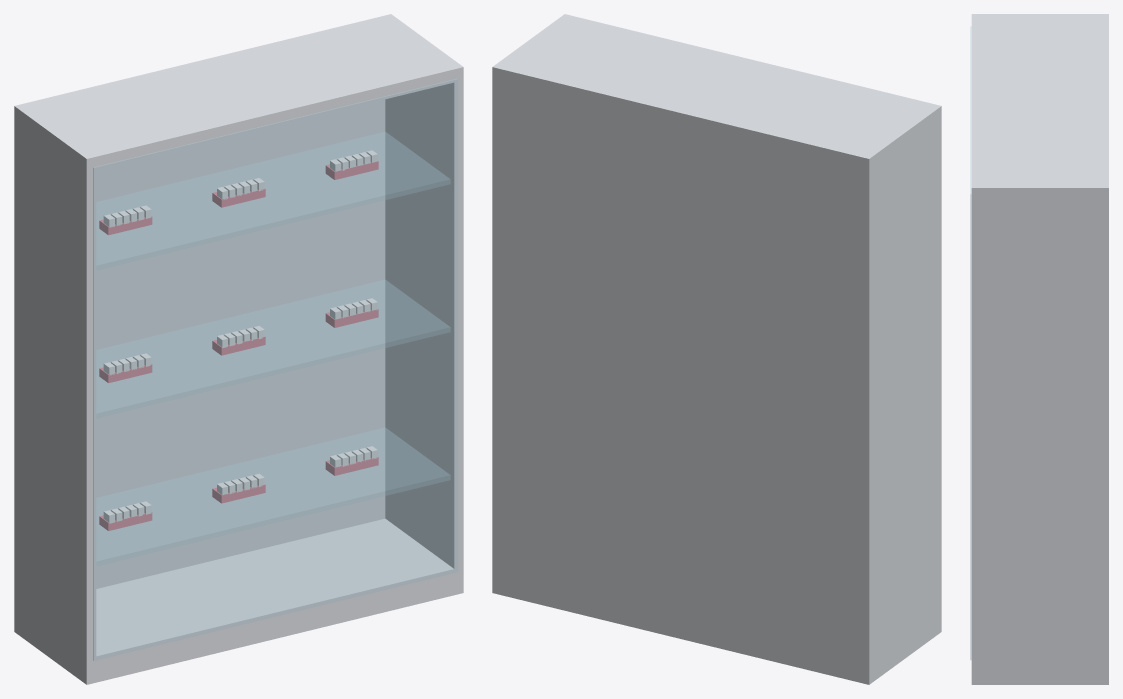
The model's file is mold_cabinet.glb.
The picture shows the model from 3 angles, left to right: view 1: azimuth 30°, elevation 25°; view 2: azimuth 150°, elevation 25°; view 3: azimuth 270°, elevation 25°; orthographic projection. The views are drawn at different scales.
Visible parts, largest first — view 1: frame_cabinet_white, door_dental_glass, shelves_dental_glass, molds_dental_white; view 2: frame_cabinet_white; view 3: frame_cabinet_white, door_dental_glass.
Boxes of the visible parts, x1=… form: frame_cabinet_white: x1=14, y1=14, x2=463, y2=684; door_dental_glass: x1=93, y1=79, x2=457, y2=660; shelves_dental_glass: x1=96, y1=132, x2=450, y2=565; molds_dental_white: x1=103, y1=150, x2=377, y2=523; frame_cabinet_white: x1=492, y1=14, x2=941, y2=684; frame_cabinet_white: x1=971, y1=14, x2=1108, y2=684; door_dental_glass: x1=970, y1=26, x2=971, y2=659.
Size of the model in its own units: 1.2 by 1.6 by 0.405.
